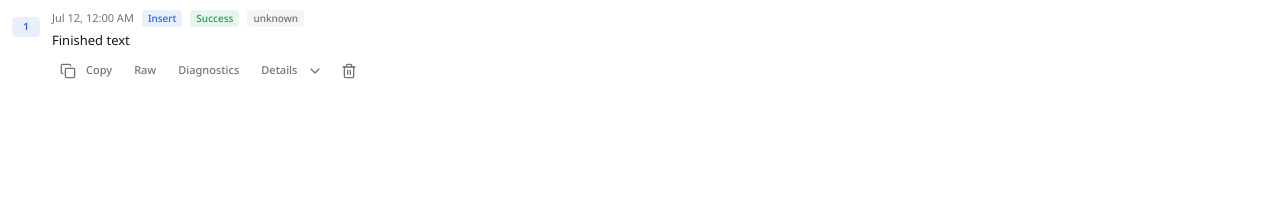
TranscriptionItem › uses a neutral model label for legacy history without model provenance
The width and height of the screenshot is (1280, 218).
Step 1. Click the button "Details" → click(292, 70), box left=253, top=58, right=332, bottom=82
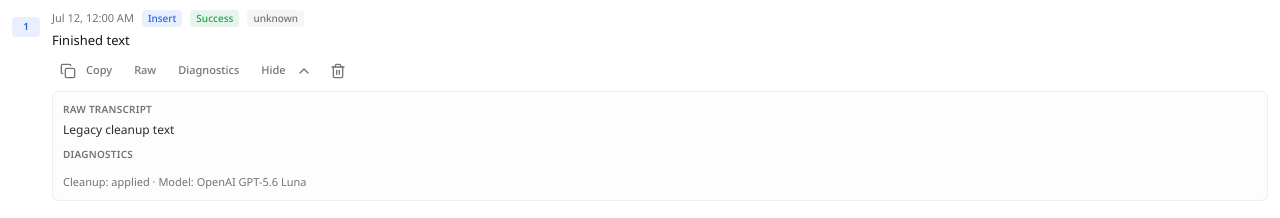
expect the text "Cleanup: applied · Model: OpenAI GPT-5.6 Luna" does not show "Selected:": met, box left=63, top=174, right=306, bottom=188
expect the text "Cleanup: applied · Model: OpenAI GPT-5.6 Luna" is shown: met, box left=63, top=174, right=306, bottom=188
